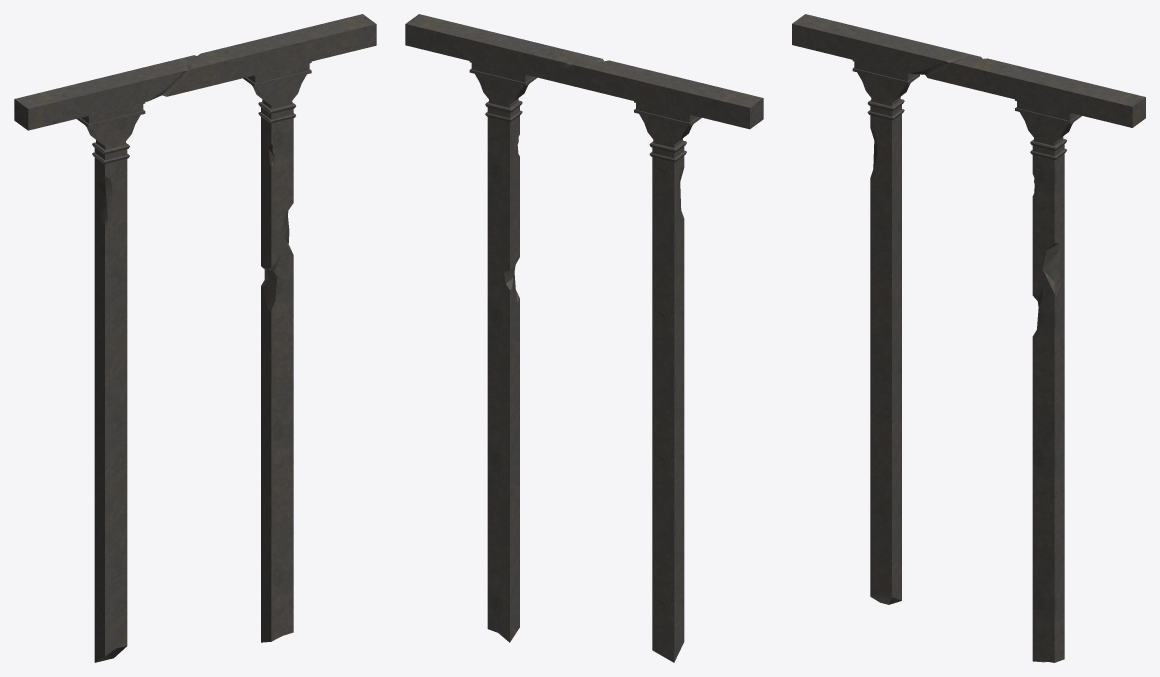
The model's file is SM_Qiao02.glb.
The picture shows the model from 3 angles, left to right: view 1: azimuth 30°, elevation 25°; view 2: azimuth 150°, elevation 25°; view 3: azimuth 330°, elevation 25°; orthographic projection. The views are drawn at different scales.
Parts seen in each view (by area): view 1: SM_Qiao02.005; view 2: SM_Qiao02.005; view 3: SM_Qiao02.005.
Boxes of the visible parts, x1,y1,x2,y2 form: SM_Qiao02.005: [14, 14, 376, 662]; SM_Qiao02.005: [405, 14, 763, 662]; SM_Qiao02.005: [792, 14, 1145, 662].
Bounding box in the file's own units: 8191 × 13526 × 559.
1 material, 1 textured.
